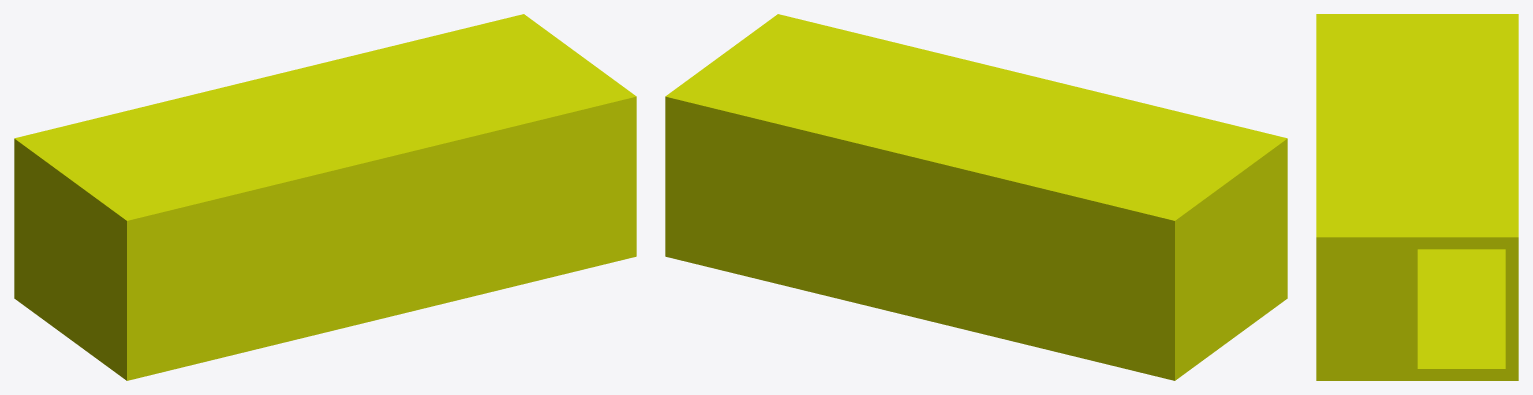
The model's file is container.glb.
3 views of the same model, side by side, from view 1: azimuth 30°, elevation 25°; view 2: azimuth 150°, elevation 25°; view 3: azimuth 270°, elevation 25° (orthographic). The views are drawn at different scales.
Parts seen in each view (by area): view 1: Cube.017; view 2: Cube.017; view 3: Cube.017.
Part boxes in pixels (x1,y1,x2,y2): Cube.017: [14, 14, 636, 380]; Cube.017: [665, 14, 1287, 380]; Cube.017: [1316, 14, 1518, 380].
Size of the model in its own units: 12 by 3.6 by 4.6.
